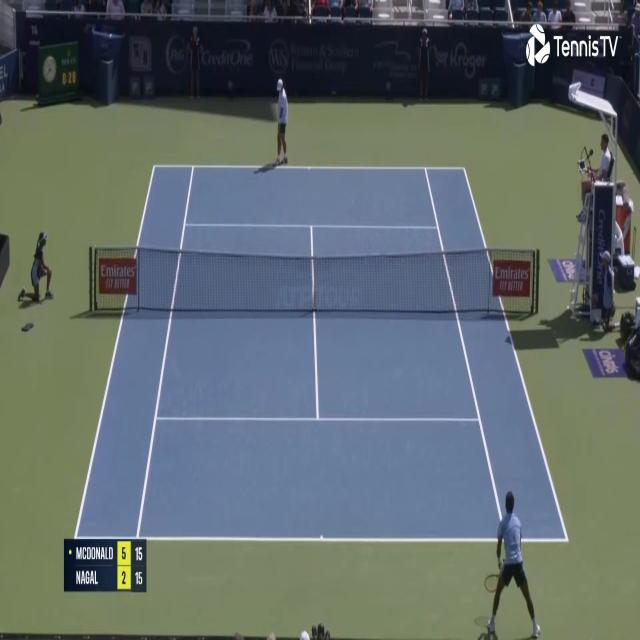tennis-player: (479, 488, 547, 639), (271, 76, 290, 168)
